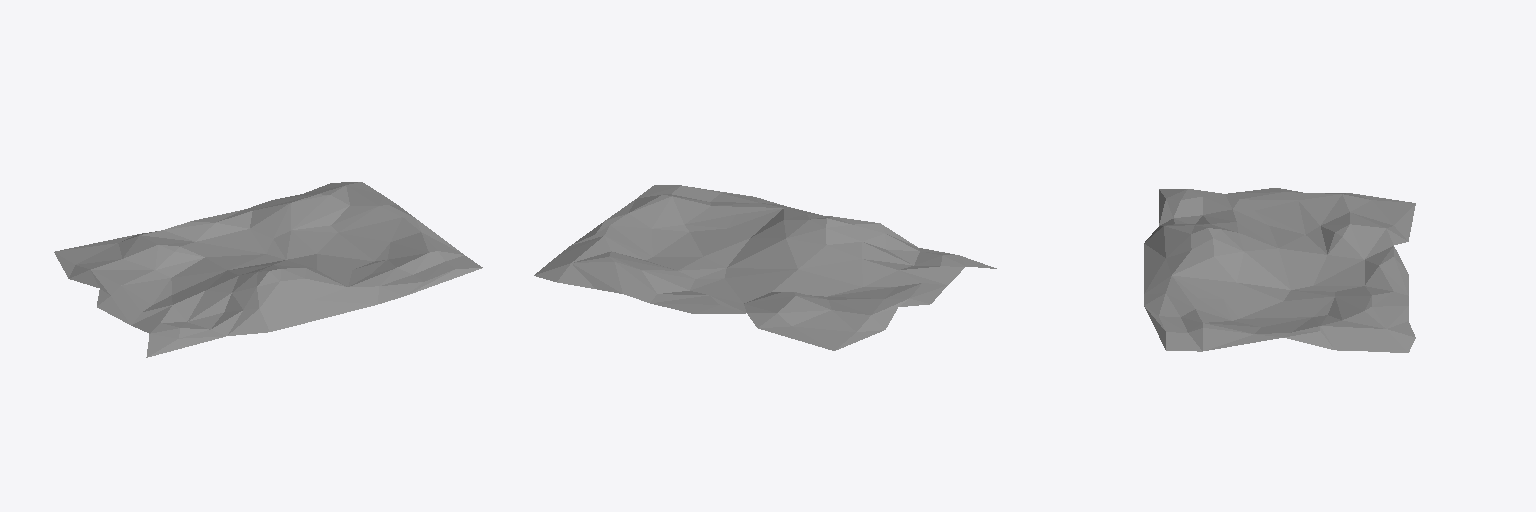
File: terrain.obj
3 renders of one model, left to right at view 1: azimuth 30°, elevation 25°; view 2: azimuth 150°, elevation 25°; view 3: azimuth 270°, elevation 25°, orthographic.
Visible parts, largest first — view 1: Plane001; view 2: Plane001; view 3: Plane001.
Boxes of the visible parts, box(x1,y1,x2,y2) form: Plane001: box(54, 182, 482, 357); Plane001: box(534, 185, 996, 350); Plane001: box(1144, 188, 1415, 352).
Bounding box in the file's own units: 3115 × 294 × 2154.